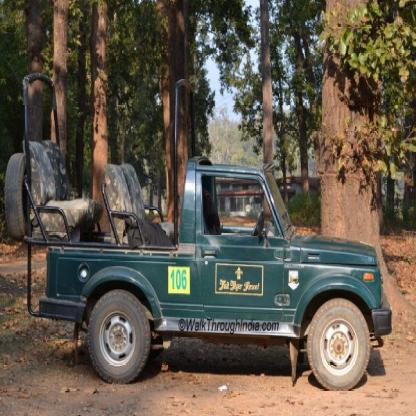car: (7, 74, 392, 392)
